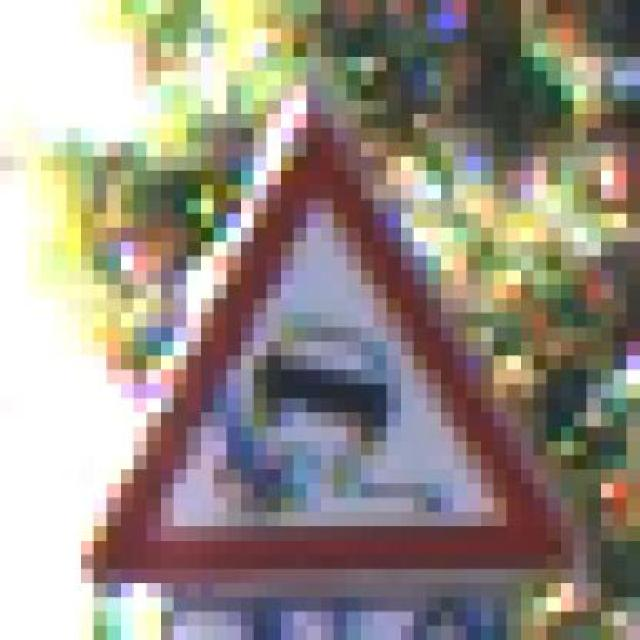Slippery Road Ahead: (53, 99, 601, 598)
